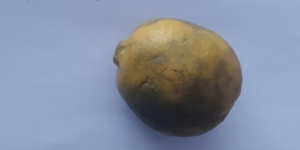BAD: (112, 15, 246, 141)
